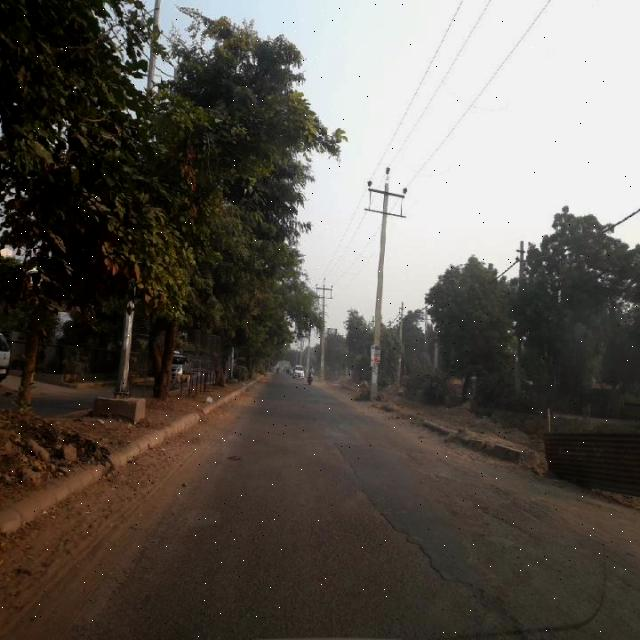D40: (391, 573, 548, 639), (452, 492, 542, 562)
